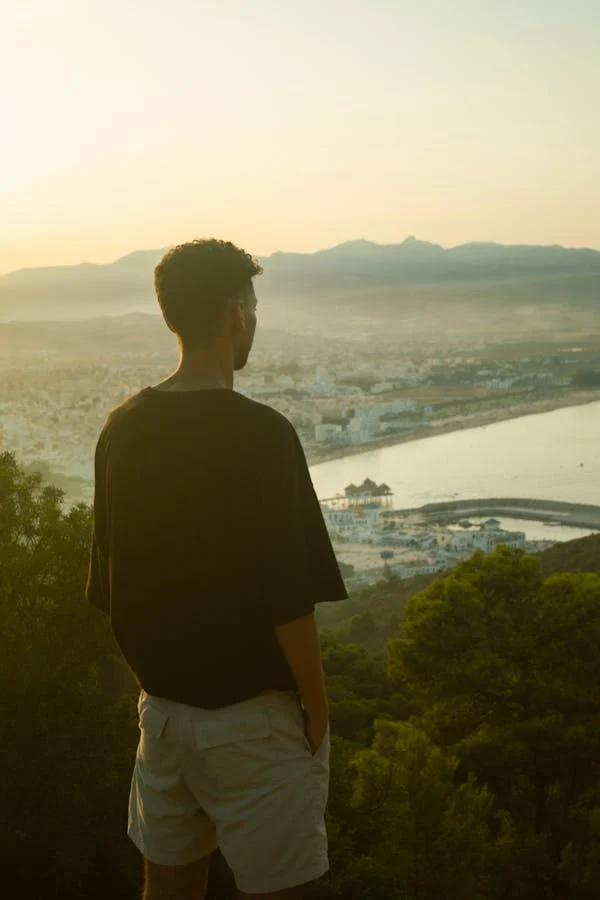Human: (93, 213, 389, 871)
